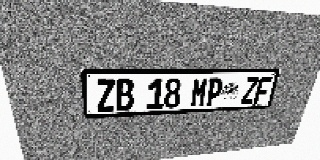1: (147, 78, 165, 109)
8: (164, 78, 182, 108)
B: (115, 79, 134, 111)
F: (253, 77, 272, 104)
M: (190, 78, 209, 107)
P: (205, 77, 224, 106)
Z: (95, 79, 115, 112), (240, 77, 259, 104)
